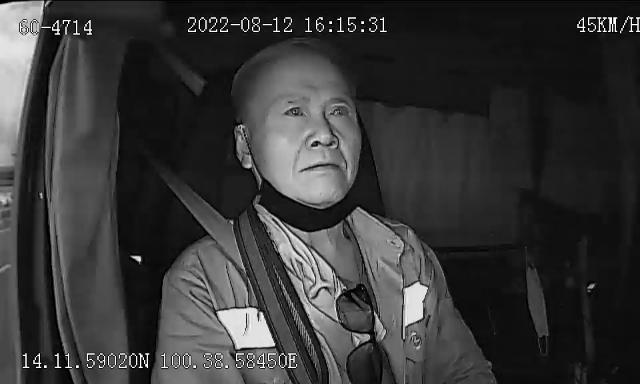SafeDriving: (322, 96, 357, 123), (278, 97, 310, 123)
Seatbelt: (157, 161, 401, 384)
